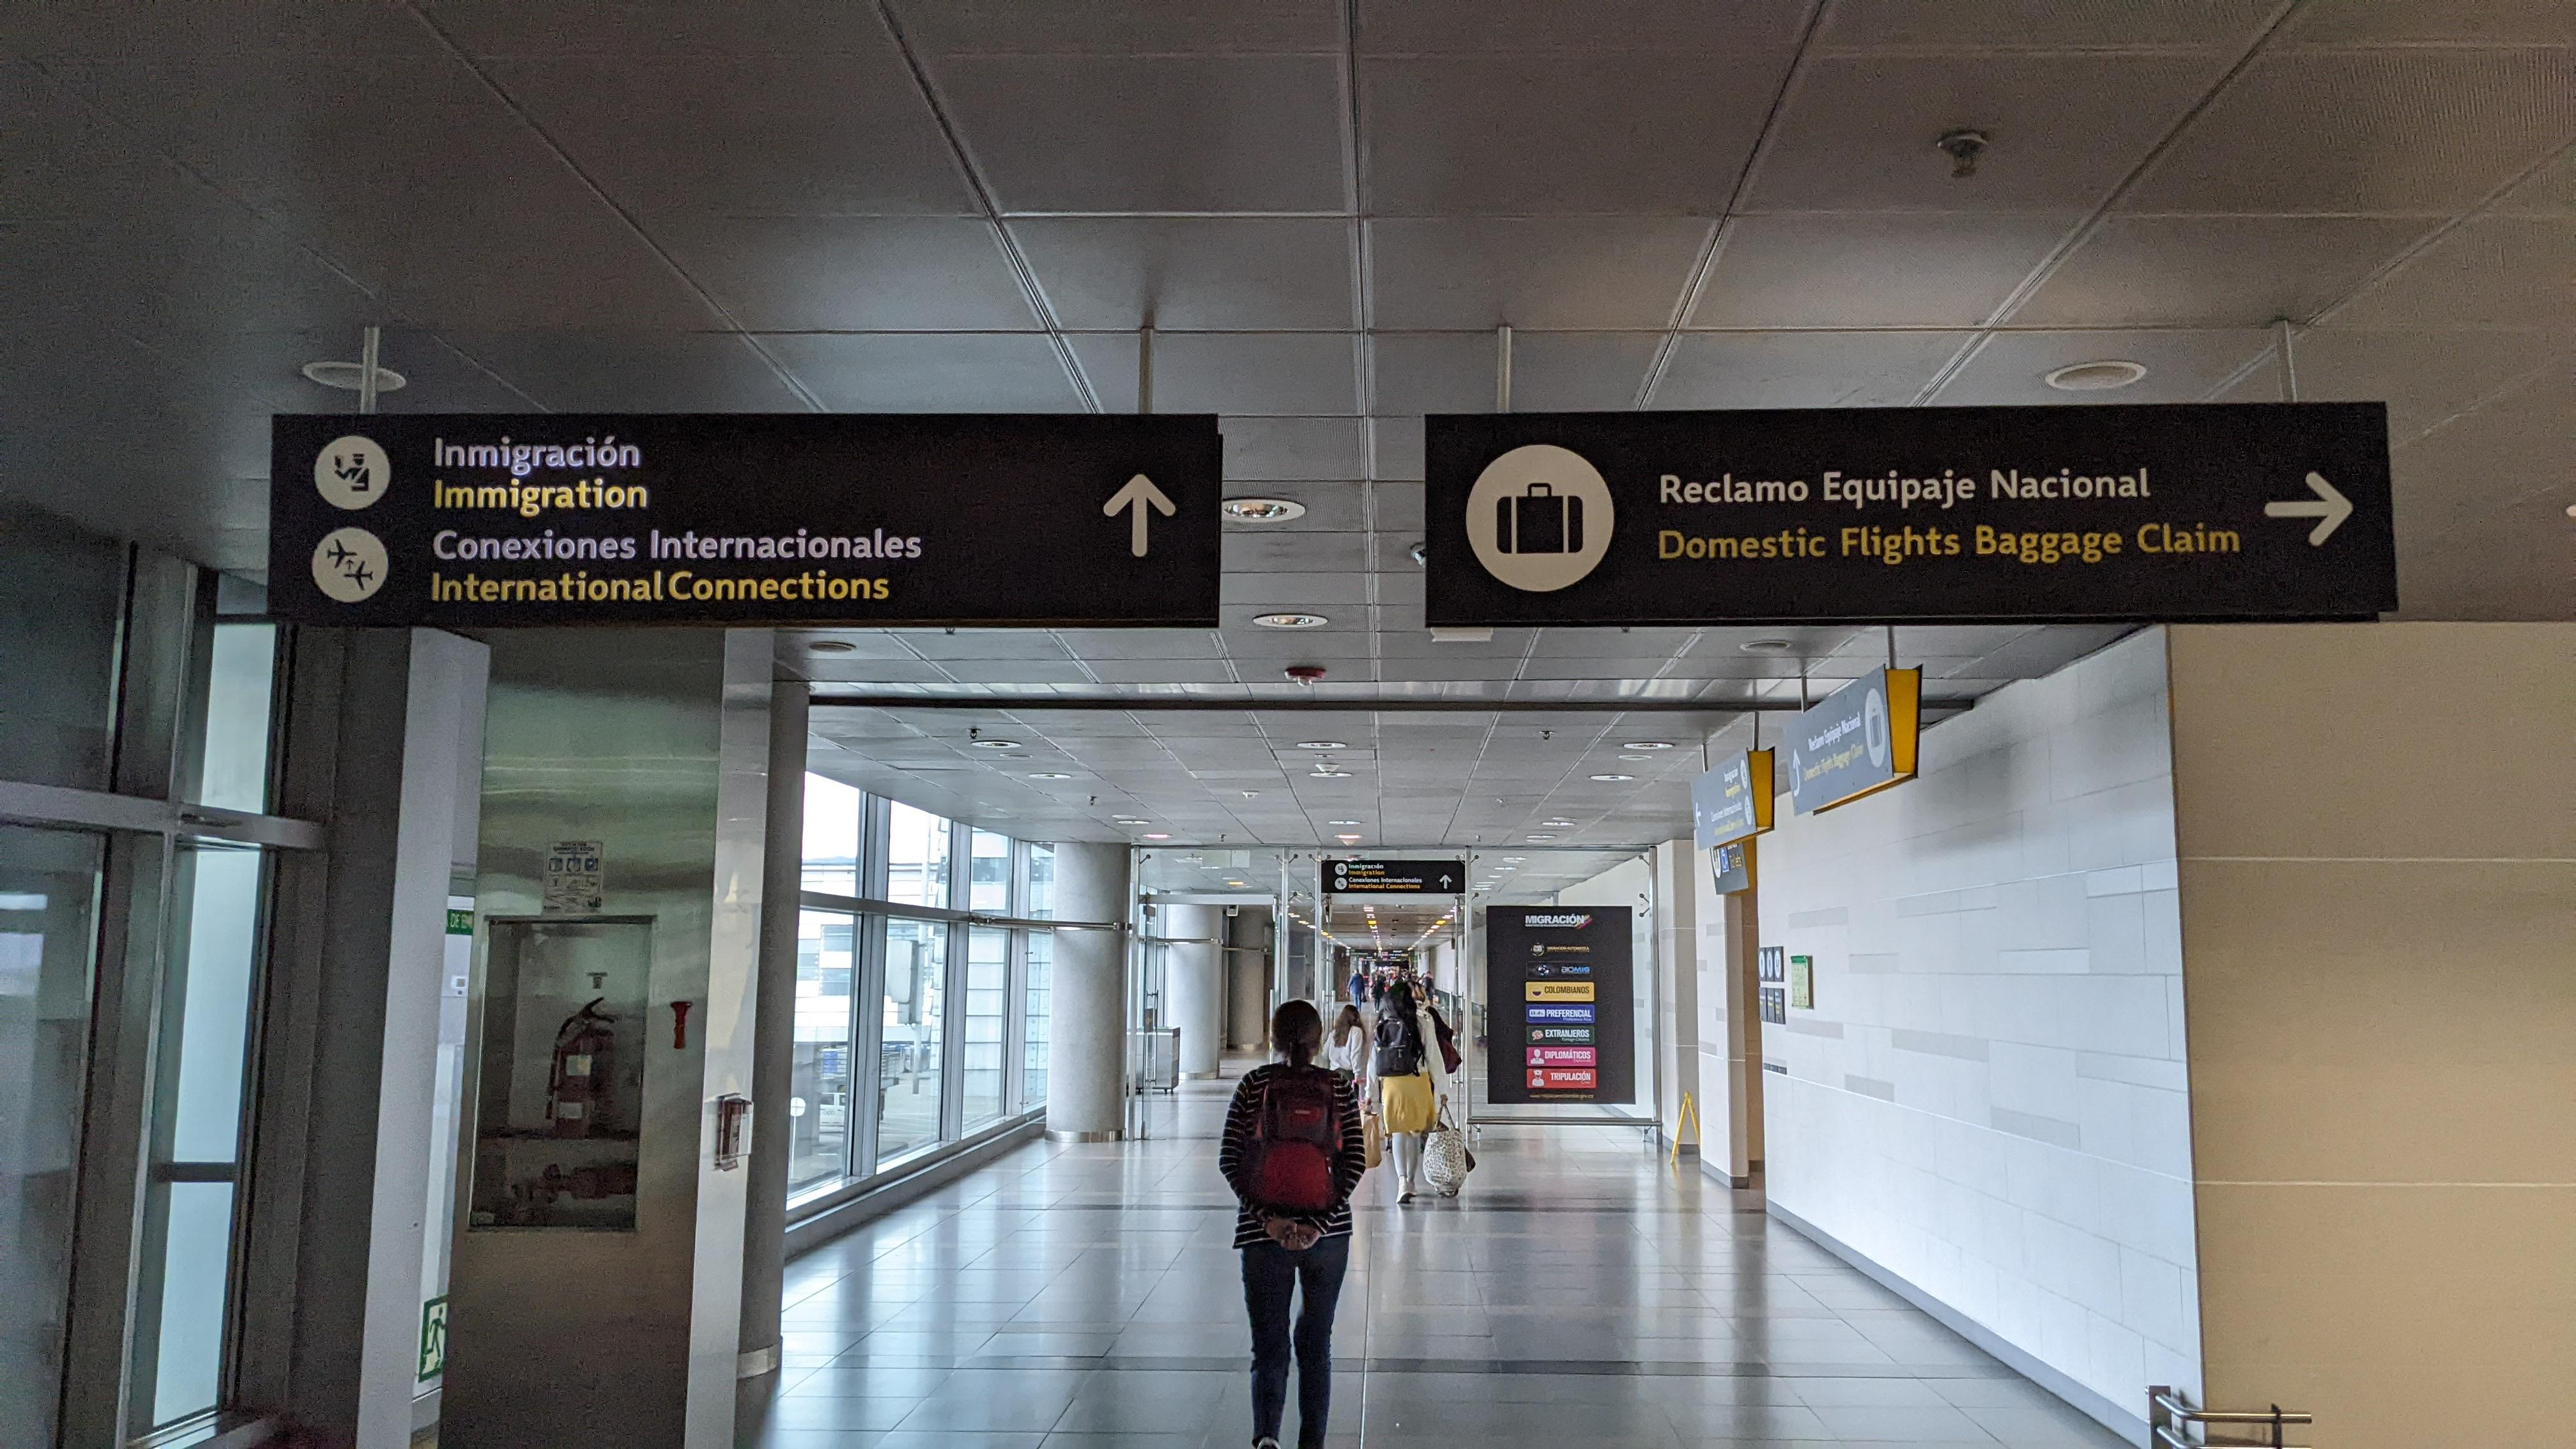baggage claim: (1491, 479, 1587, 557)
emergency exit: (419, 1293, 448, 1375)
handicapped symbol: (1720, 849, 1729, 870)
thin right arrow: (2258, 467, 2362, 552)
thin up arrow: (1100, 471, 1178, 557), (1438, 874, 1453, 890)
